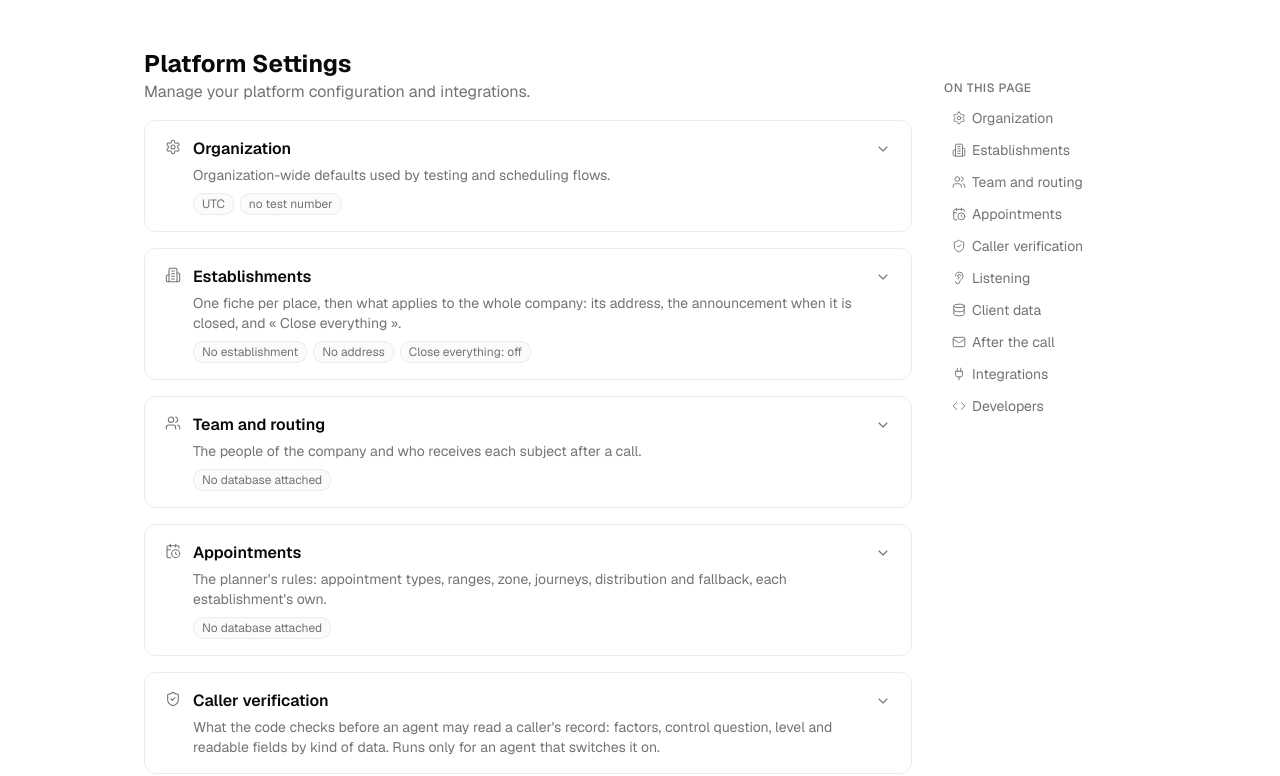
Scenario: [.mark] business address on the Platform Settings page › keeps Save asleep while a postal code has no town chosen
Step 1. Click the button that starts with "Establishments" → [528, 314], box [145, 249, 911, 379]
(page scrolled)
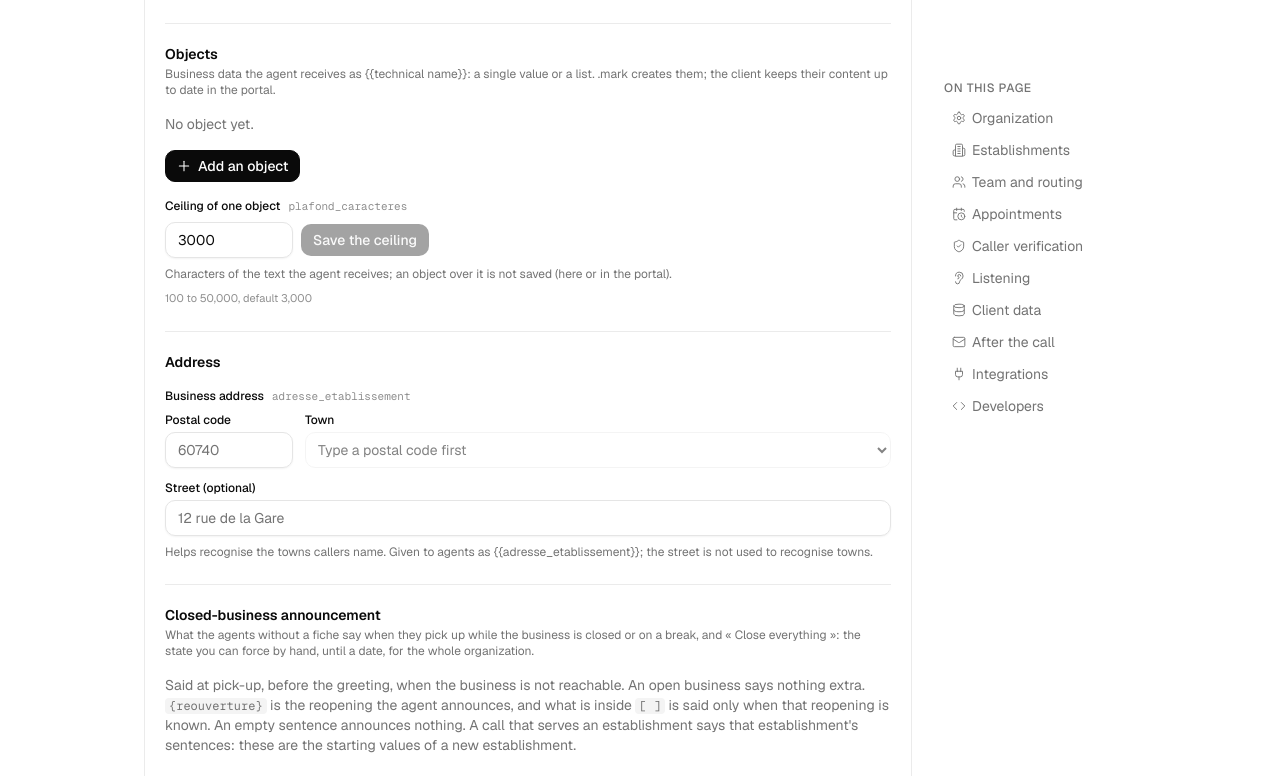
Expected: the field with id "settings-business-address-code-postal" is shown
Step 2. Type "60300" into the field with id "settings-business-address-code-postal" → [229, 450], box [165, 432, 293, 468]
(page scrolled)
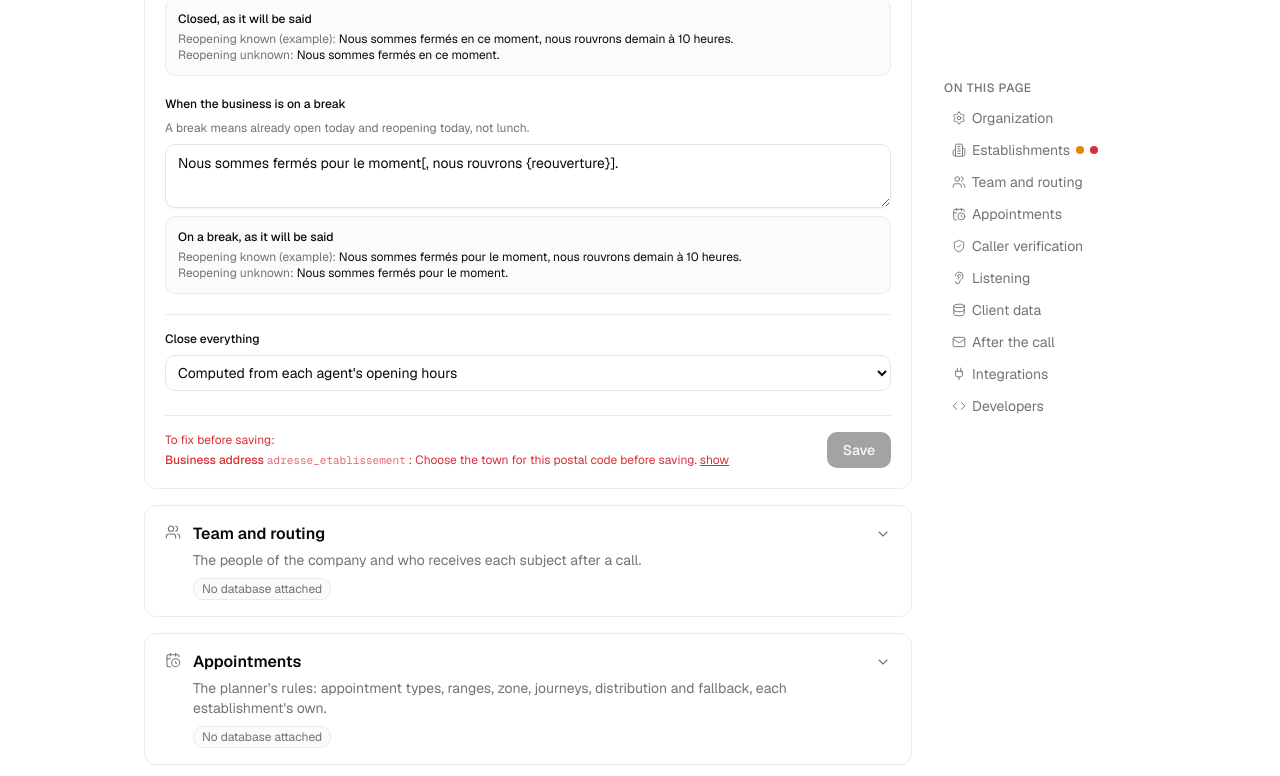
Expected: the button with aria-label "Save Establishments" is disabled, [827, 432, 891, 468]
